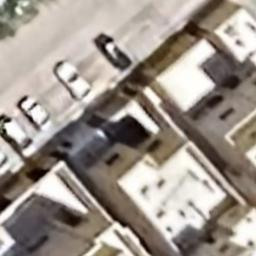SUV: (52, 58, 94, 102)
pickup: (94, 31, 134, 73)
sedan: (15, 94, 54, 134)
van: (0, 113, 38, 160)
